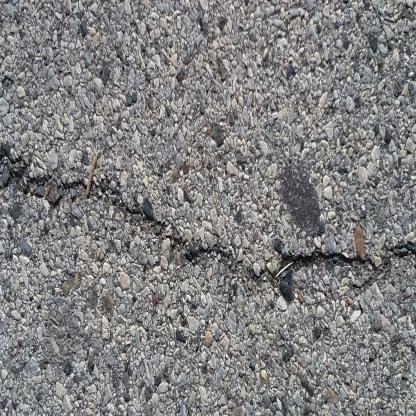Cracks: (0, 104, 416, 296)
